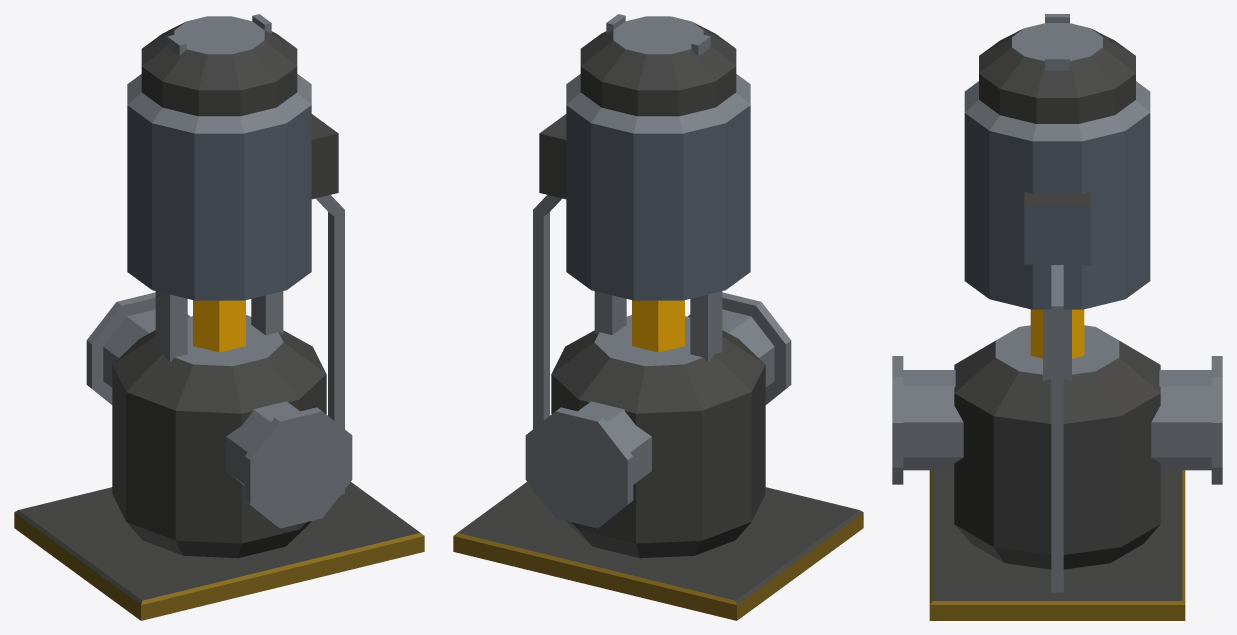
File: coolant_pump.glb
3 renders of one model, left to right at view 1: azimuth 30°, elevation 25°; view 2: azimuth 150°, elevation 25°; view 3: azimuth 270°, elevation 25°, orthographic.
Visible parts, largest first — view 1: coolant_pump; view 2: coolant_pump; view 3: coolant_pump.
Boxes of the visible parts, box(x1,y1,x2,y2) form: coolant_pump: box(14, 14, 424, 620); coolant_pump: box(453, 14, 863, 620); coolant_pump: box(892, 14, 1222, 620).
Bounding box in the file's own units: 1.6 × 2.75 × 1.6.
